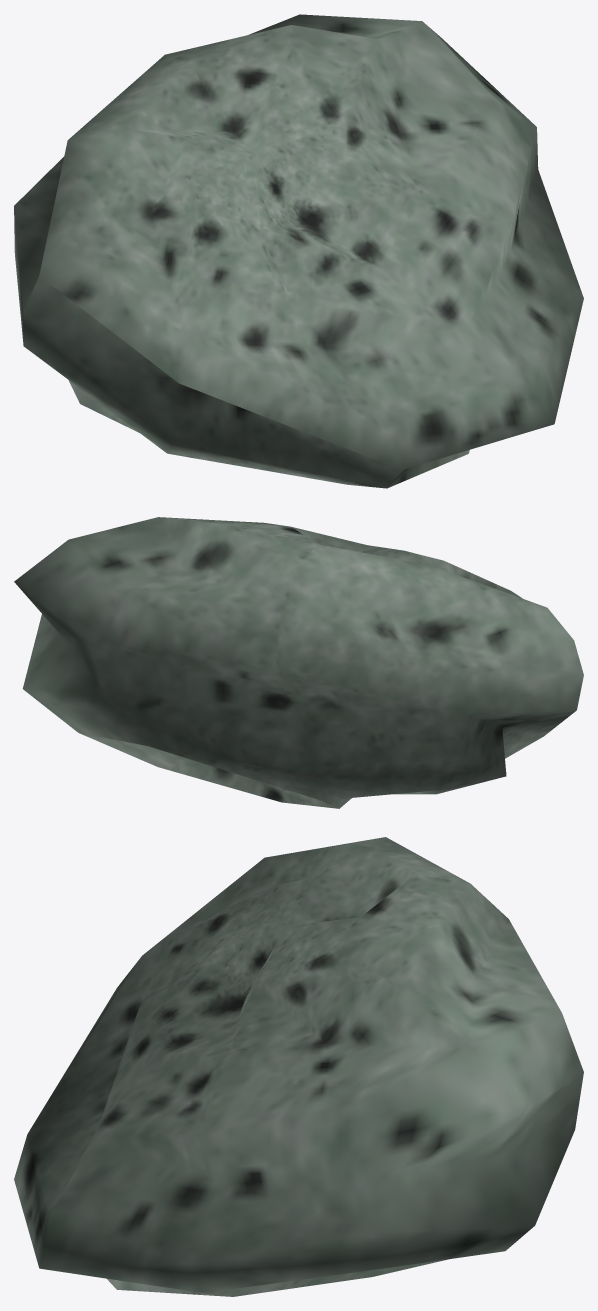
The model's file is SM_Stone.fbx.
The picture shows the model from 3 angles, top to bottom: view 1: azimuth 30°, elevation 25°; view 2: azimuth 150°, elevation 25°; view 3: azimuth 270°, elevation 25°; orthographic projection. The views are drawn at different scales.
Parts seen in each view (by area): view 1: SM_Stone; view 2: SM_Stone; view 3: SM_Stone.
Boxes of the visible parts, x1,y1,x2,y2 form: SM_Stone: [14, 14, 583, 488]; SM_Stone: [14, 517, 583, 808]; SM_Stone: [14, 837, 583, 1296].
Bounding box in the file's own units: 34.89 × 19.19 × 28.46.
Materials: 1 (1 with a texture image).
